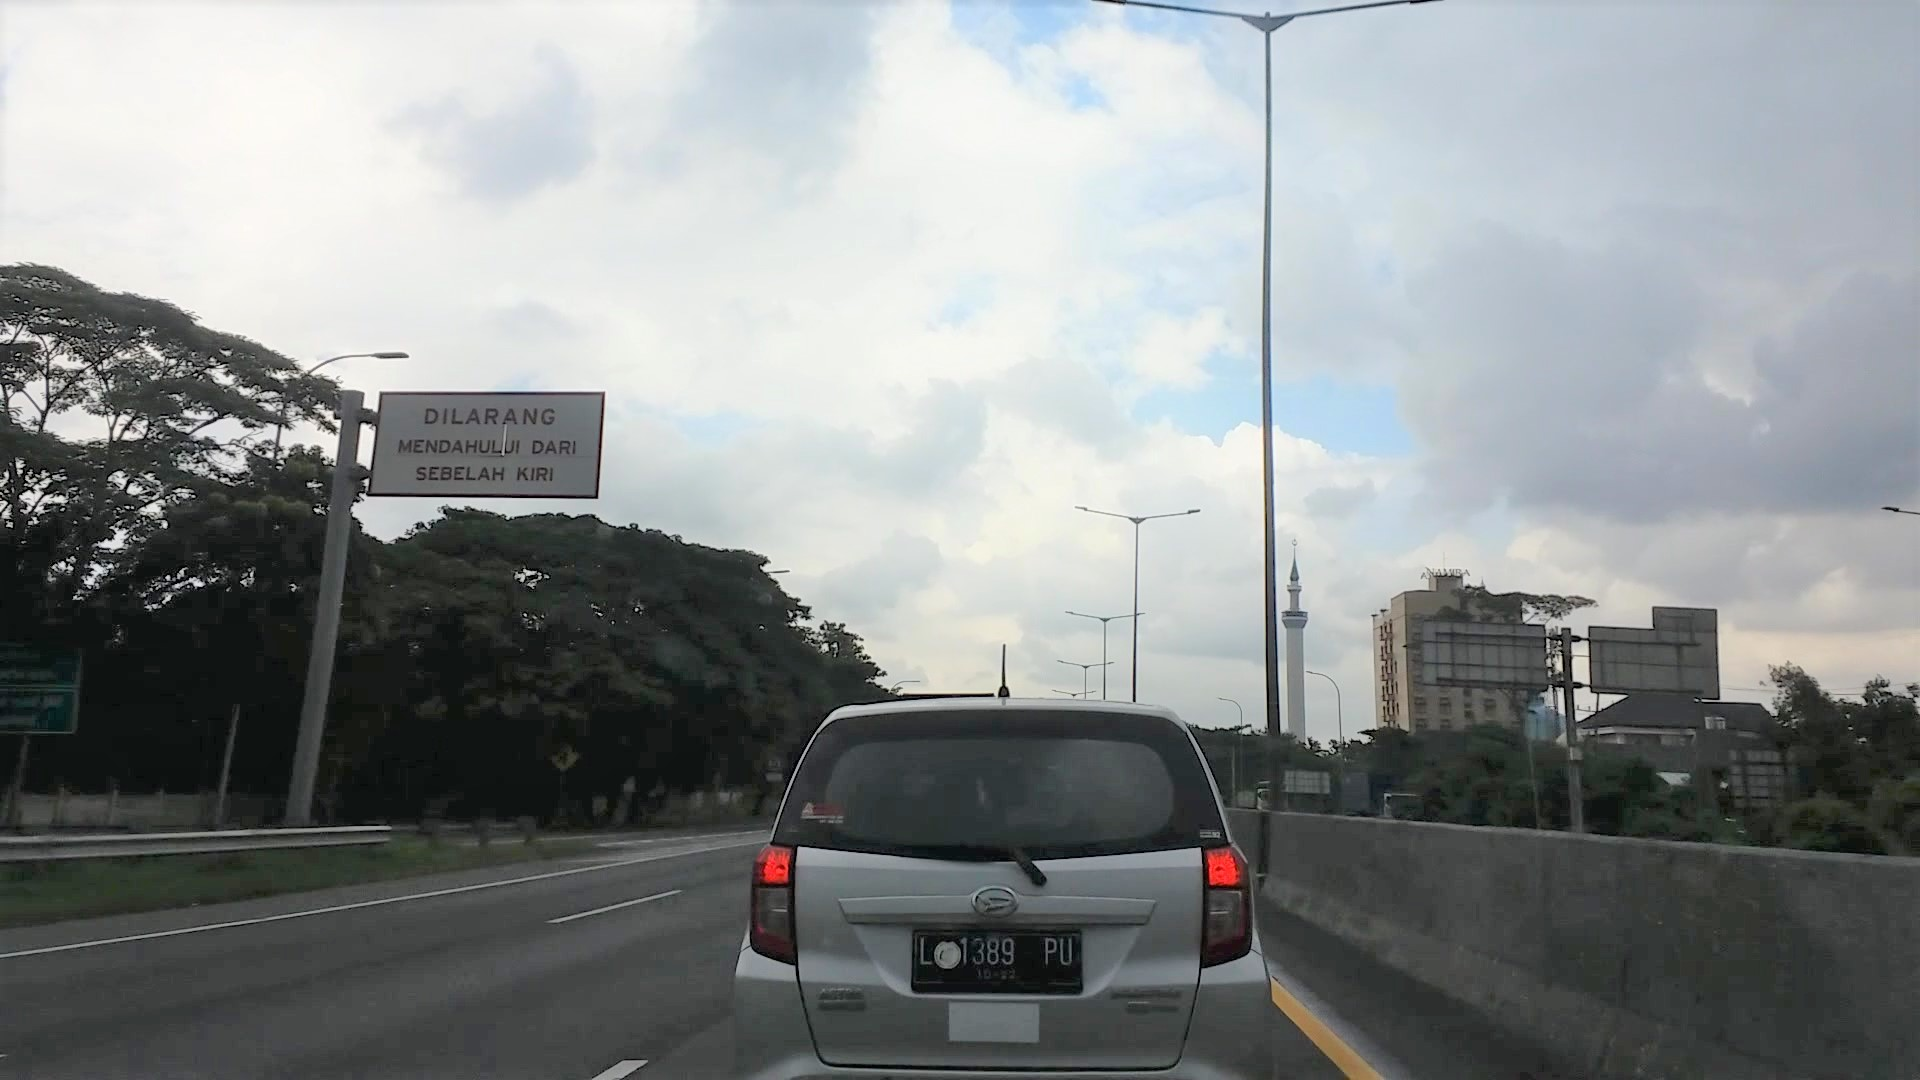plate_positive: (913, 928, 1083, 996)
